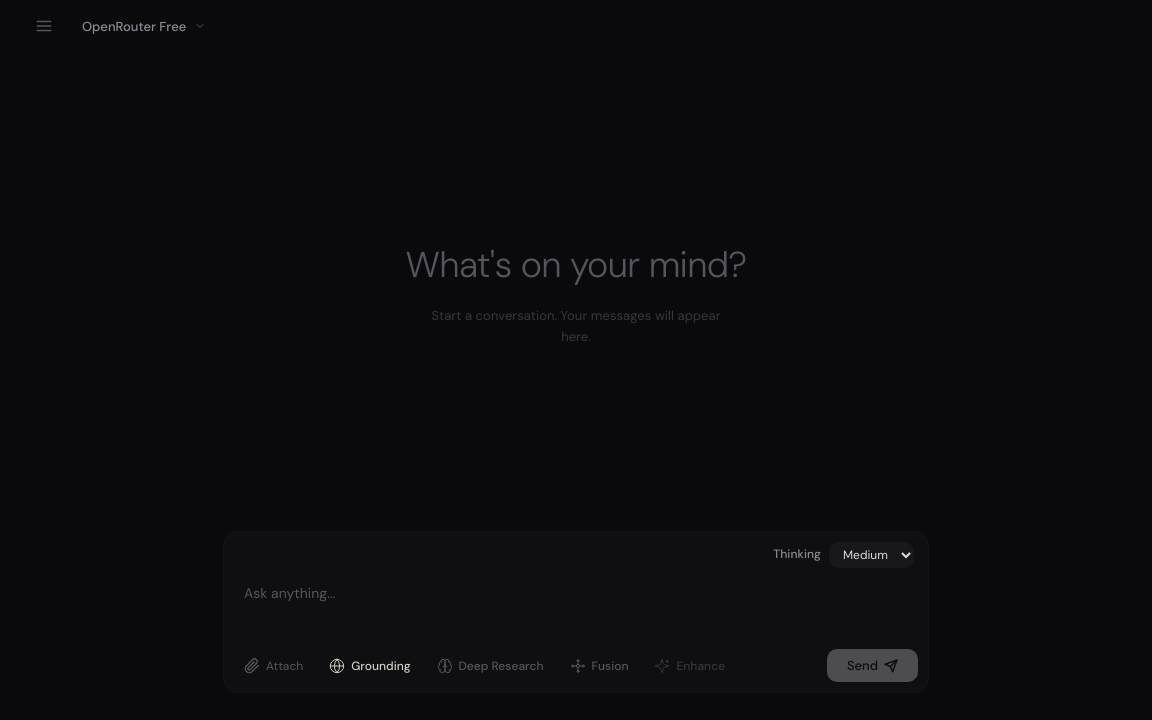
Test: Deep research streaming UX › renders research phases and completion state from progress events
The image size is (1152, 720).
Expected: the text box with placeholder "Ask anything..." is shown, x1=224 y1=568 x2=928 y2=635
Click the button "Deep Research".
click(490, 666)  # box x1=426 y1=652 x2=554 y2=680
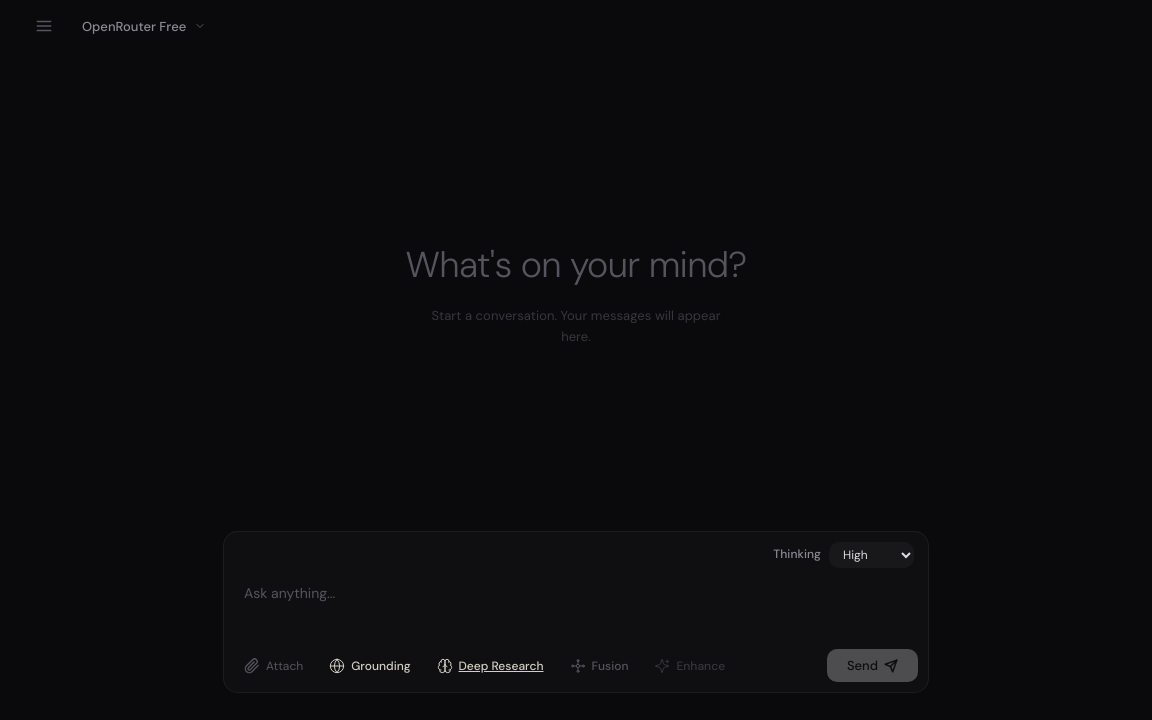
Type "Need deep research output" into the text box with placeholder "Ask anything...".
click(576, 601); type("Need deep research output")  # box x1=224 y1=568 x2=928 y2=635
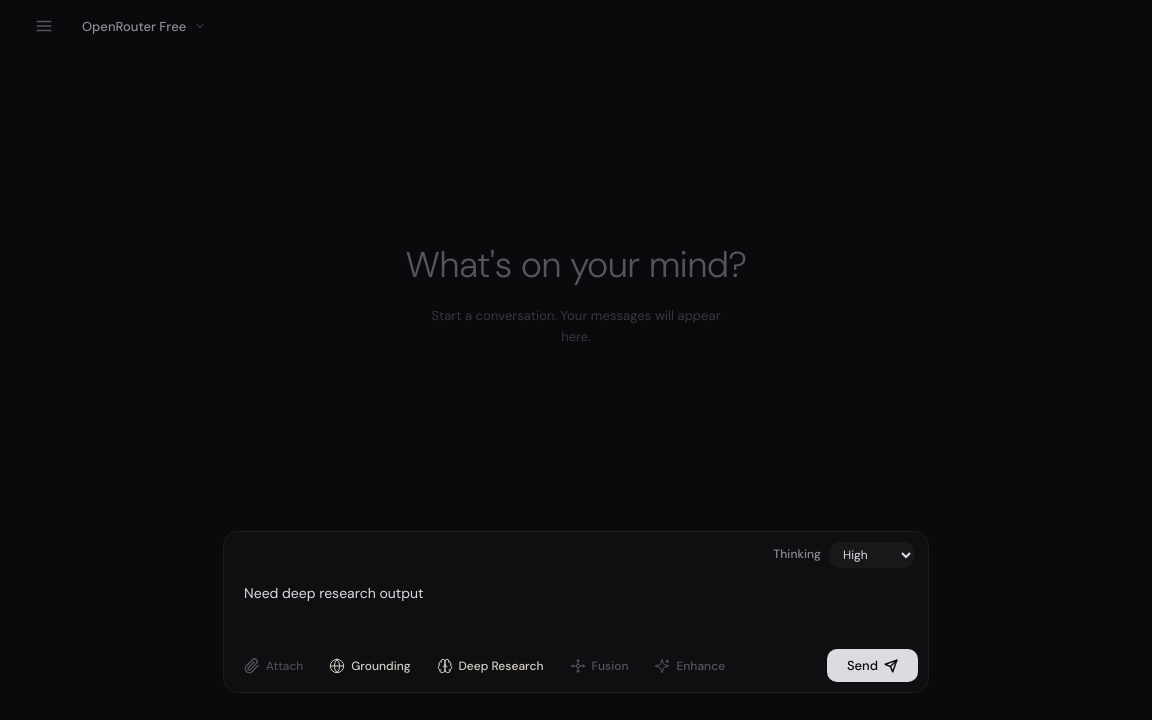
Click the button "Send".
click(872, 666)  # box x1=827 y1=649 x2=918 y2=682
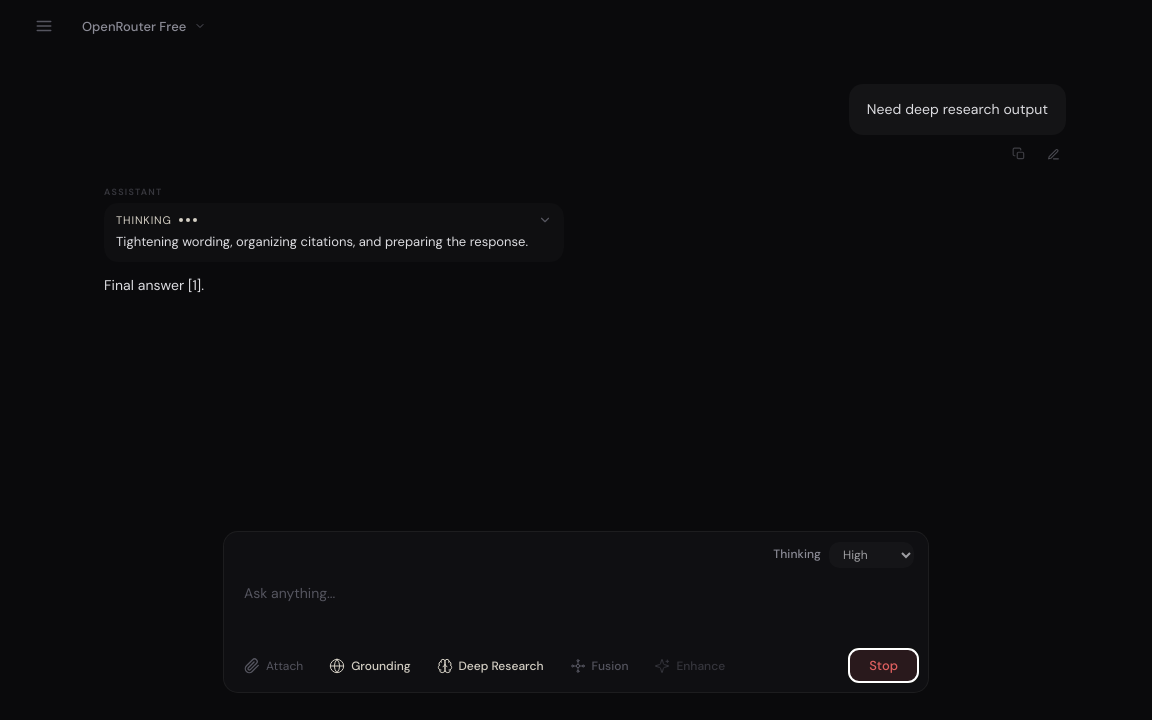
Now the text "Tightening wording, organizing citations, and preparing the response." is shown, box x1=116 y1=234 x2=528 y2=252
Now the text "Thinking" below "assistant" is shown, box x1=116 y1=214 x2=172 y2=228
// Expand the in-message panel to see all phases
Click the button "Thinking".
click(334, 233)  # box x1=104 y1=204 x2=564 y2=262
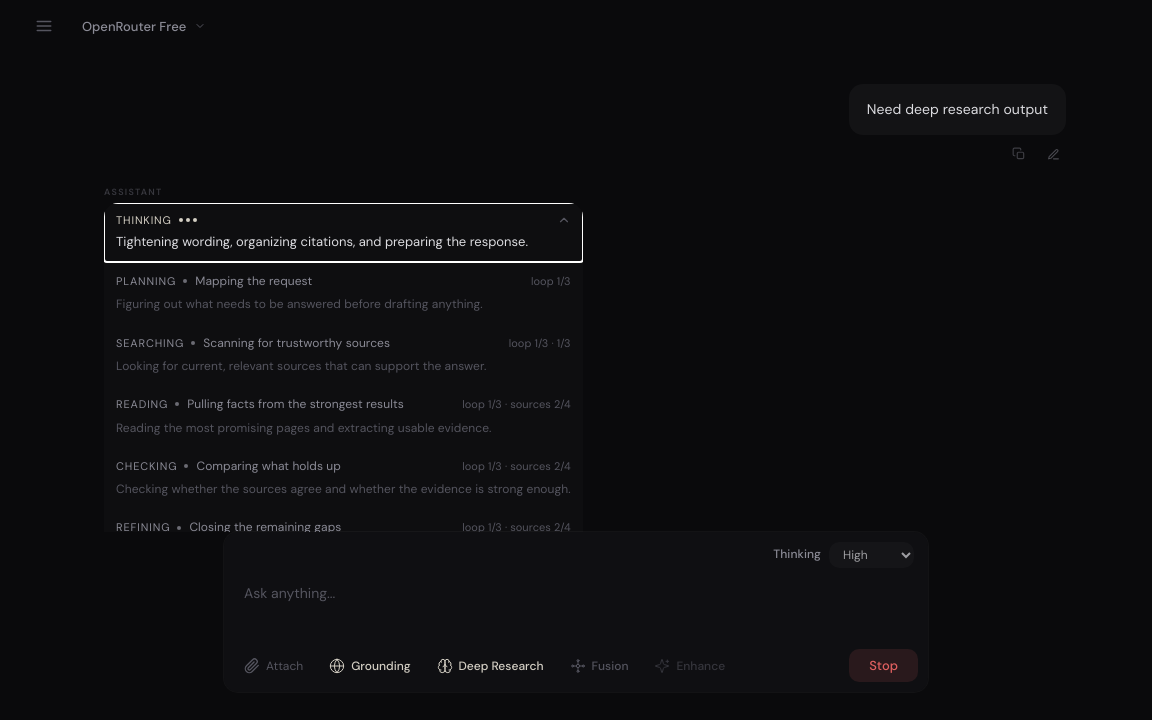
Now the text "Mapping the request" is shown, box x1=195 y1=273 x2=312 y2=290
Now the text "Scanning for trustworthy sources" is shown, box x1=203 y1=334 x2=390 y2=351
Now the text "Pulling facts from the strongest results" is shown, box x1=187 y1=396 x2=404 y2=413
